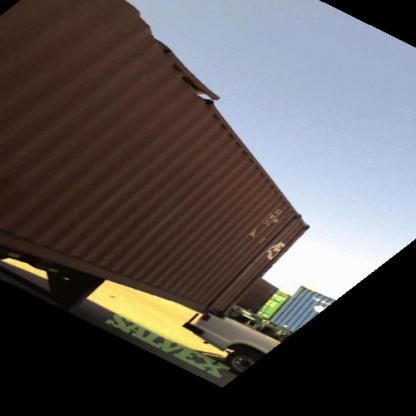Damage: (178, 198, 310, 300), (139, 26, 230, 104)
